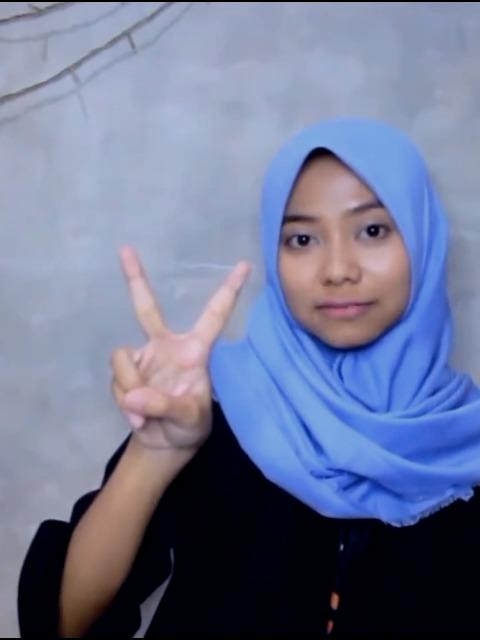V: (102, 237, 260, 459)
